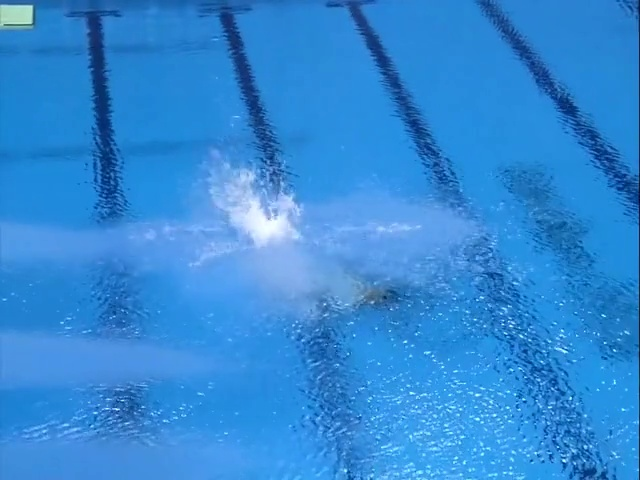splash: (223, 177, 298, 247)
